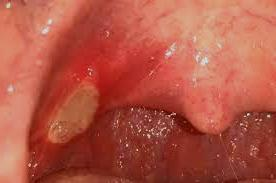Ulcer: (30, 69, 108, 144)
